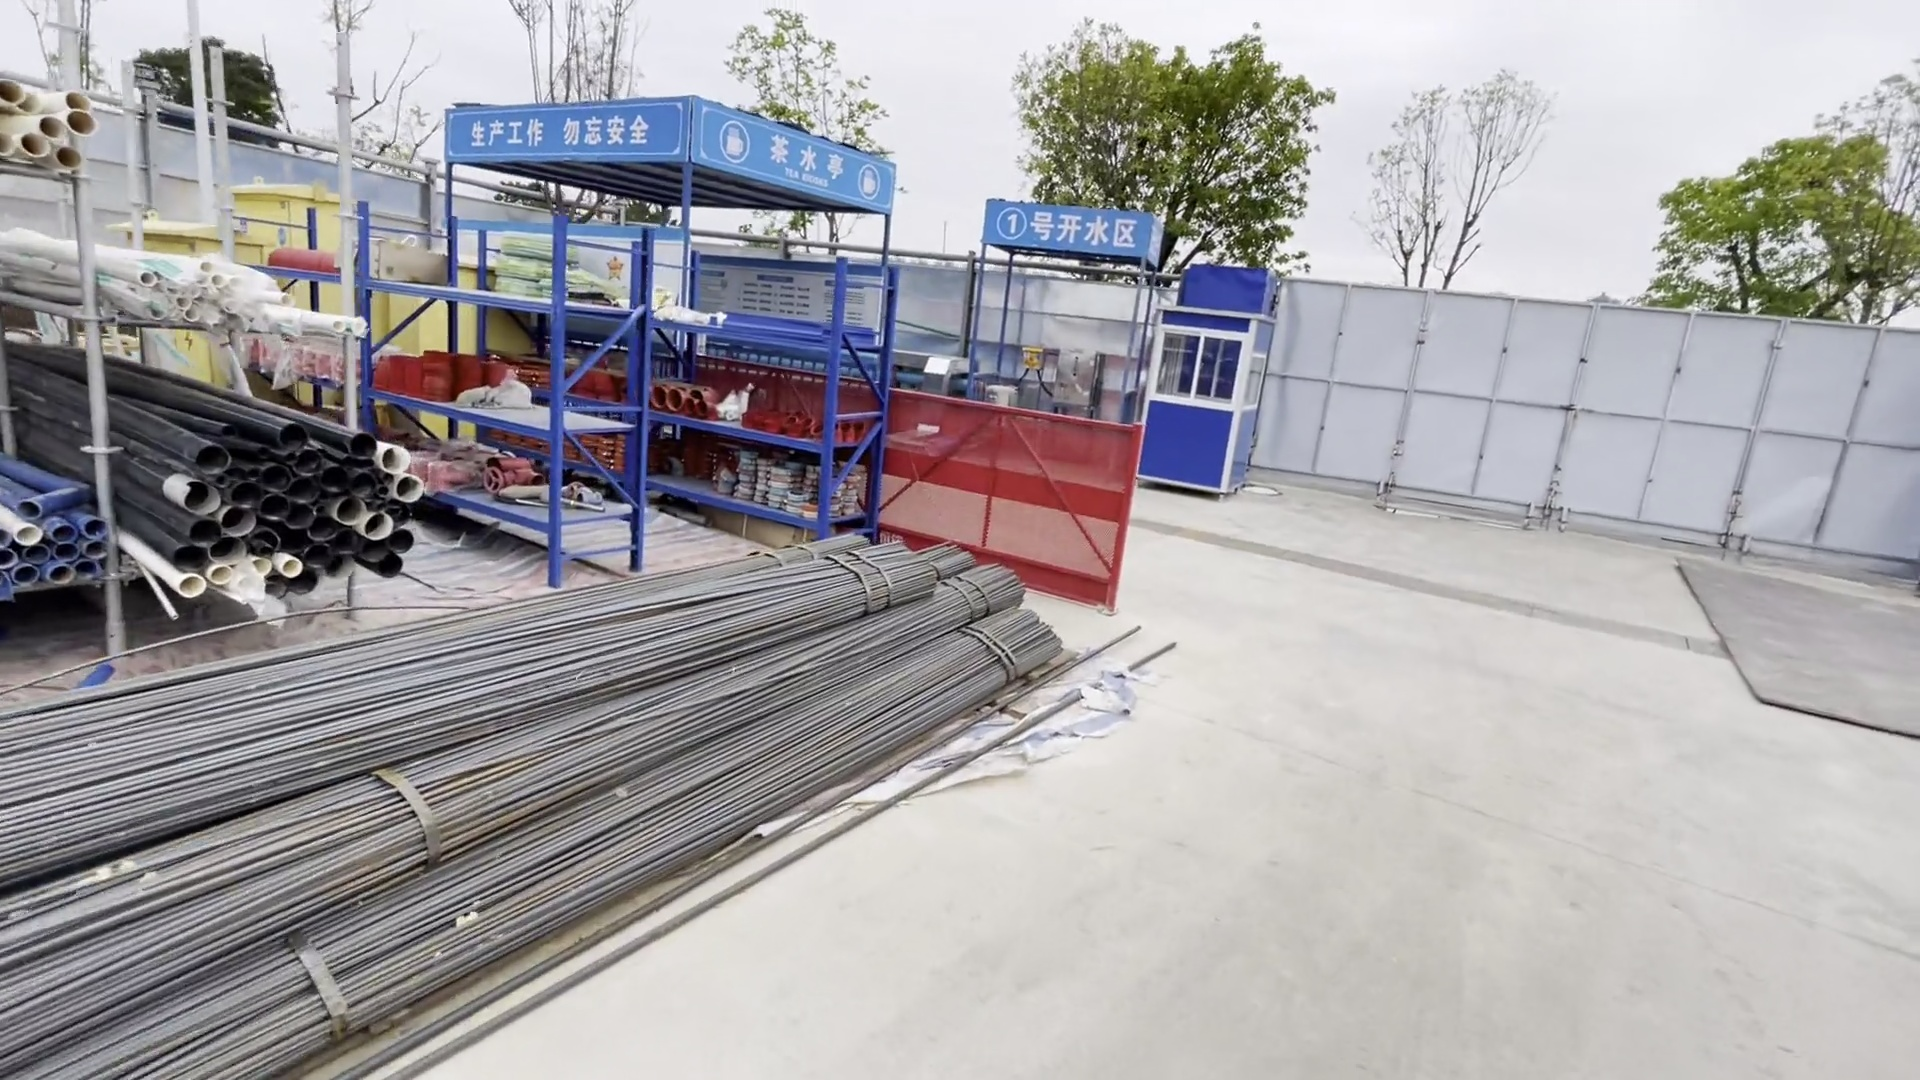ebox: (239, 175, 473, 353), (1019, 342, 1043, 369)
fence: (870, 396, 1143, 559)
rebar: (1, 516, 1052, 1073)
slogan: (468, 104, 644, 154)
